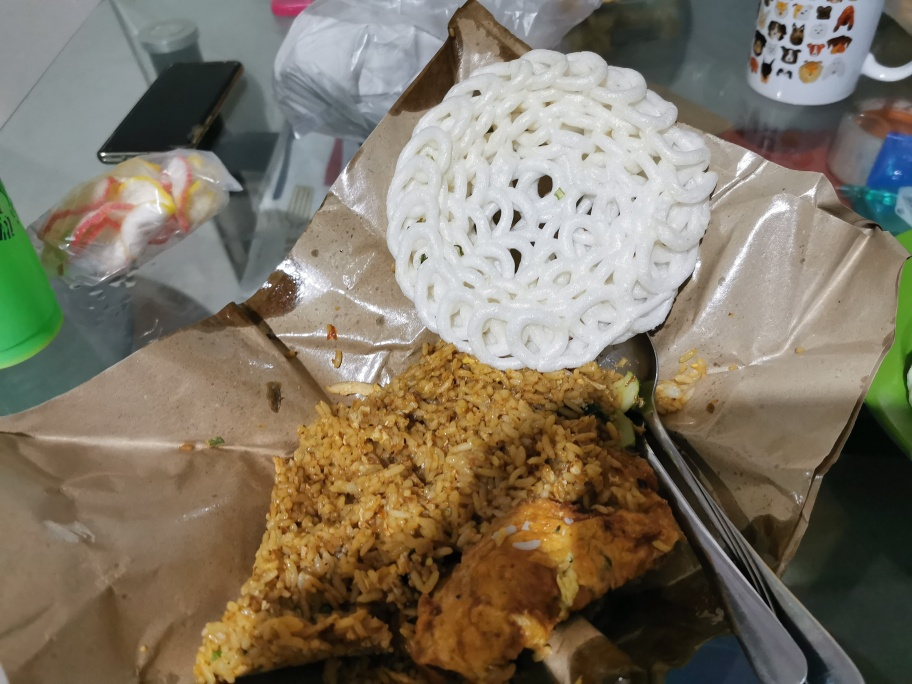kerupuk: (380, 60, 712, 358)
nasi goreng: (207, 363, 678, 681)
